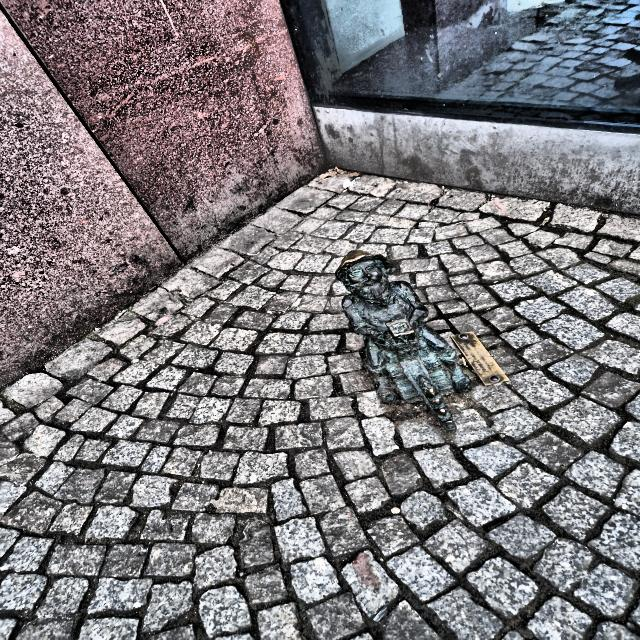Automatek: (335, 250, 472, 432)
